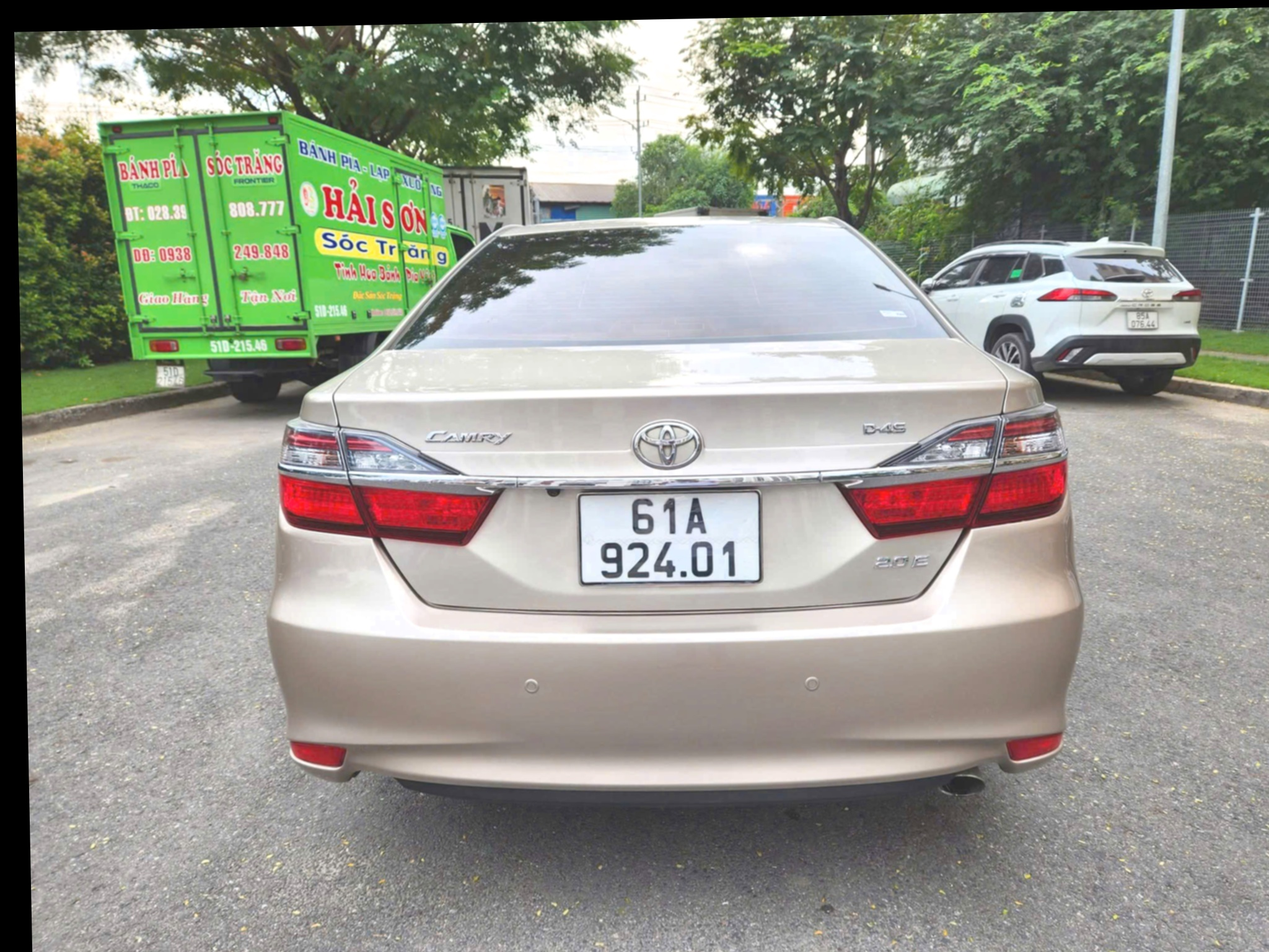Bien-so: (577, 489, 765, 586), (156, 362, 187, 392), (1124, 302, 1156, 331)
